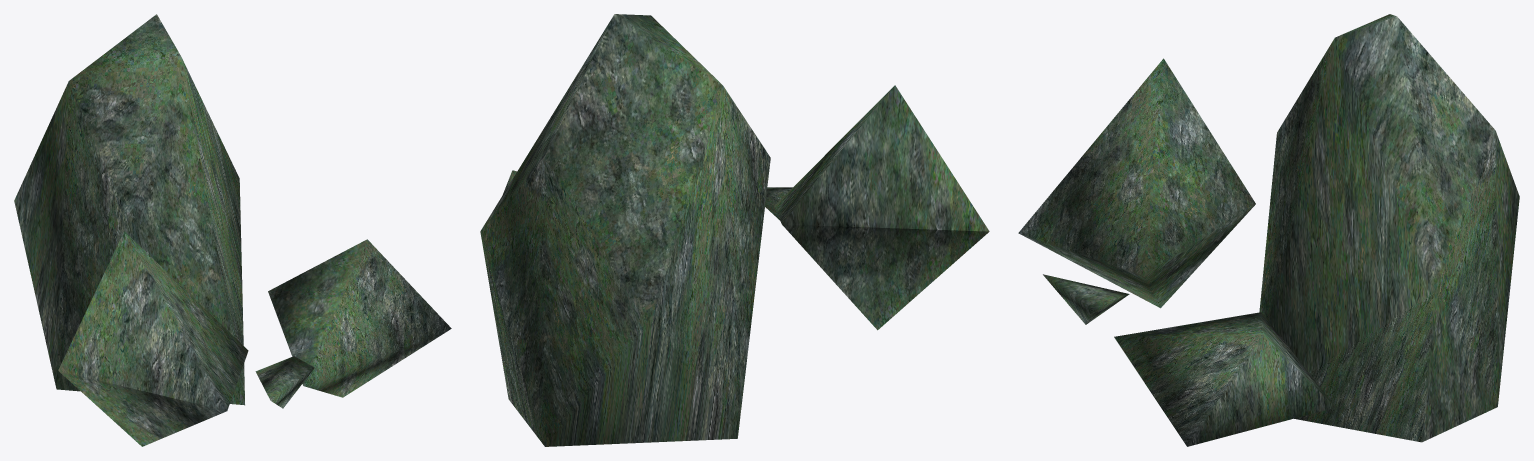
File: rock_mossy_bluebig_l4.fbx
The picture shows the model from 3 angles, left to right: view 1: azimuth 30°, elevation 25°; view 2: azimuth 150°, elevation 25°; view 3: azimuth 270°, elevation 25°; orthographic projection. The views are drawn at different scales.
Visible parts, largest first — view 1: mesh_node; view 2: mesh_node; view 3: mesh_node.
Part boxes in pixels (x1,y1,x2,y2): mesh_node: [14, 14, 451, 446]; mesh_node: [480, 14, 989, 446]; mesh_node: [1018, 14, 1519, 446].
Size of the model in its own units: 10.53 by 8.47 by 10.07.
1 material, 1 textured.
